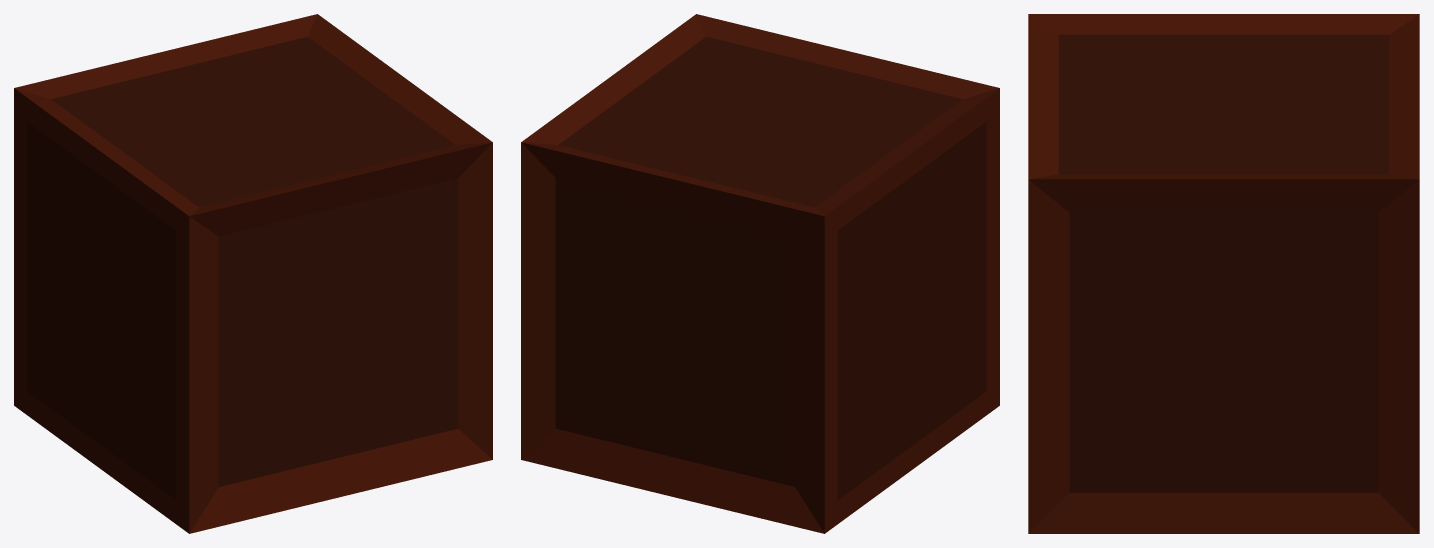
File: crate_1.obj
3 views of the same model, side by side, from view 1: azimuth 30°, elevation 25°; view 2: azimuth 150°, elevation 25°; view 3: azimuth 270°, elevation 25° (orthographic). The views are drawn at different scales.
Parts seen in each view (by area): view 1: crate_1; view 2: crate_1; view 3: crate_1.
Boxes of the visible parts, box(x1,y1,x2,y2) form: crate_1: box(14, 14, 492, 533); crate_1: box(521, 14, 999, 533); crate_1: box(1028, 14, 1419, 533).
Size of the model in its own units: 0.3043 by 0.3043 by 0.3043.
